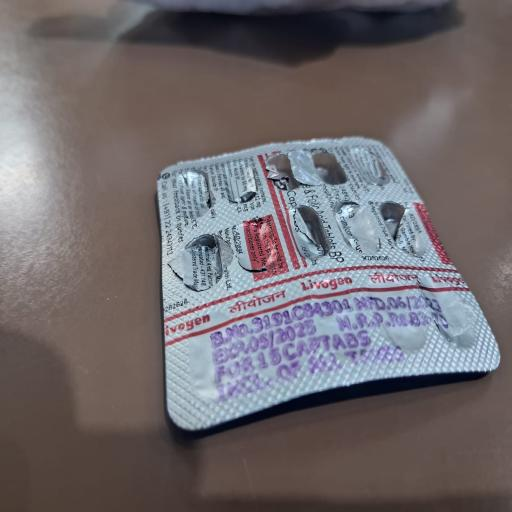livogen-tablet: (294, 269, 356, 301), (160, 316, 222, 342), (423, 263, 469, 291)
medicine: (153, 142, 497, 398)
